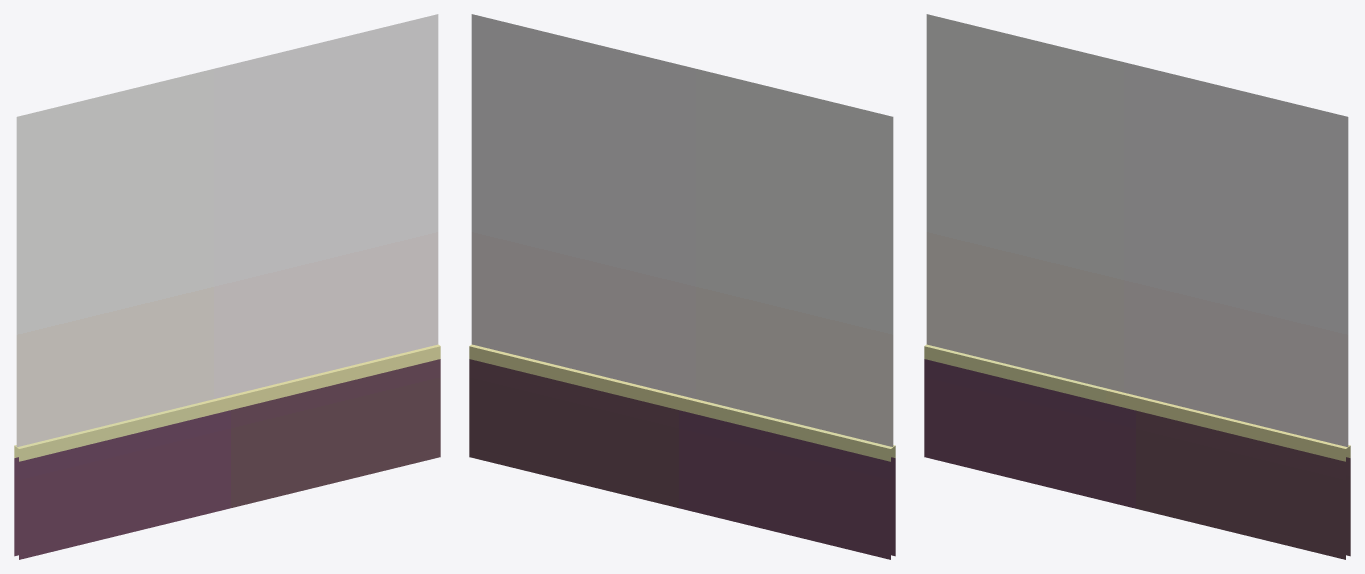
Rendered from wall.glb.
The picture shows the model from 3 angles, left to right: view 1: azimuth 30°, elevation 25°; view 2: azimuth 150°, elevation 25°; view 3: azimuth 330°, elevation 25°; orthographic projection.
Visible parts, largest first — view 1: Wall_Door; view 2: Wall_Door; view 3: Wall_Door.
Boxes of the visible parts, x1=… form: Wall_Door: x1=14, y1=14, x2=440, y2=559; Wall_Door: x1=469, y1=14, x2=895, y2=559; Wall_Door: x1=924, y1=14, x2=1350, y2=559.
Size of the model in its own units: 4 by 4 by 0.08.
Materials: 1 (1 with a texture image).
